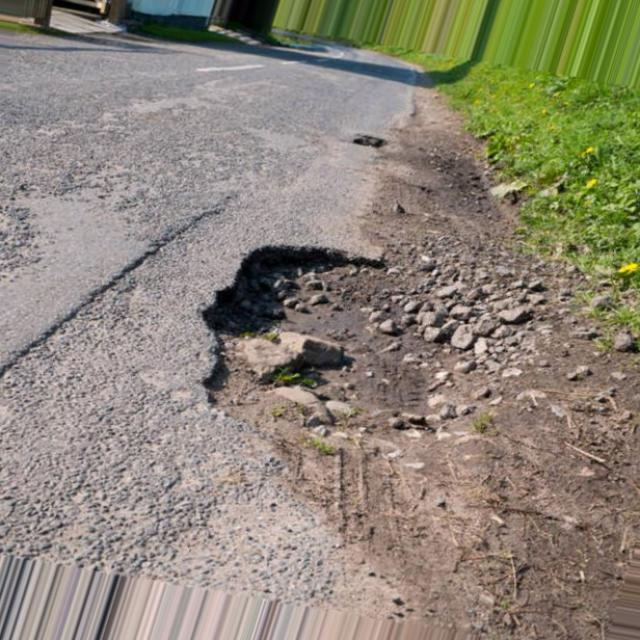Pinggir: (137, 125, 452, 598)
